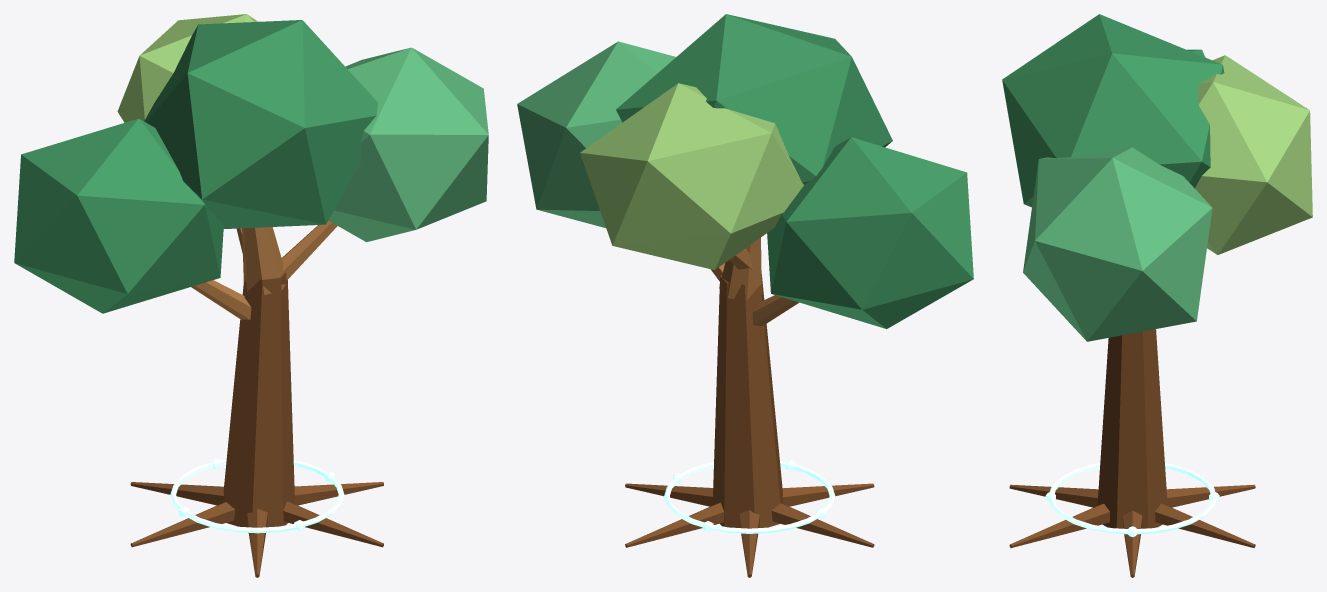
The model's file is growing.glb.
The picture shows the model from 3 angles, left to right: view 1: azimuth 30°, elevation 25°; view 2: azimuth 150°, elevation 25°; view 3: azimuth 270°, elevation 25°; orthographic projection. The views are drawn at different scales.
Visible parts, largest first — view 1: Oak_Canopy_04, Oak_Canopy_01, Oak_Canopy_02, Trunk_Lower, Oak_Canopy_03, Trunk_Upper, Chrono_Energy_Ring, Root_04, Root_06, Branch_02, Branch_01, Root_03 (+2 smaller); view 2: Oak_Canopy_01, Oak_Canopy_03, Oak_Canopy_04, Oak_Canopy_02, Trunk_Lower, Chrono_Energy_Ring, Trunk_Upper, Root_04, Root_02, Root_05, Root_01, Root_03 (+1 smaller); view 3: Oak_Canopy_02, Oak_Canopy_04, Oak_Canopy_03, Trunk_Lower, Chrono_Energy_Ring, Root_02, Root_06, Root_05, Root_03, Root_01.
Boxes of the visible parts, x1=… form: Oak_Canopy_04: x1=144, y1=20, x2=377, y2=228; Oak_Canopy_01: x1=14, y1=118, x2=223, y2=313; Oak_Canopy_02: x1=328, y1=47, x2=488, y2=242; Trunk_Lower: x1=223, y1=272, x2=294, y2=527; Oak_Canopy_03: x1=117, y1=14, x2=257, y2=122; Trunk_Upper: x1=242, y1=227, x2=285, y2=295; Chrono_Energy_Ring: x1=170, y1=459, x2=344, y2=533; Root_04: x1=130, y1=502, x2=234, y2=547; Root_06: x1=283, y1=501, x2=383, y2=547; Branch_02: x1=281, y1=220, x2=337, y2=280; Branch_01: x1=191, y1=280, x2=251, y2=319; Root_03: x1=130, y1=482, x2=223, y2=505; Oak_Canopy_01: x1=767, y1=137, x2=973, y2=328; Oak_Canopy_03: x1=580, y1=83, x2=803, y2=269; Oak_Canopy_04: x1=616, y1=14, x2=892, y2=184; Oak_Canopy_02: x1=517, y1=41, x2=675, y2=227; Trunk_Lower: x1=712, y1=274, x2=783, y2=527; Chrono_Energy_Ring: x1=664, y1=461, x2=835, y2=533; Trunk_Upper: x1=719, y1=237, x2=761, y2=299; Root_04: x1=771, y1=503, x2=874, y2=547; Root_02: x1=625, y1=502, x2=724, y2=547; Root_05: x1=782, y1=483, x2=874, y2=506; Root_01: x1=625, y1=483, x2=713, y2=506; Root_03: x1=739, y1=510, x2=759, y2=577; Oak_Canopy_02: x1=1023, y1=147, x2=1212, y2=341; Oak_Canopy_04: x1=1002, y1=14, x2=1224, y2=207; Oak_Canopy_03: x1=1195, y1=55, x2=1312, y2=254; Trunk_Lower: x1=1097, y1=329, x2=1167, y2=528; Chrono_Energy_Ring: x1=1048, y1=463, x2=1216, y2=534; Root_02: x1=1155, y1=503, x2=1255, y2=547; Root_06: x1=1009, y1=503, x2=1109, y2=547; Root_05: x1=1009, y1=484, x2=1098, y2=507; Root_03: x1=1166, y1=484, x2=1255, y2=507; Root_01: x1=1122, y1=510, x2=1142, y2=577.
Bounding box in the file's own units: 2.83 × 2.87 × 1.68.
